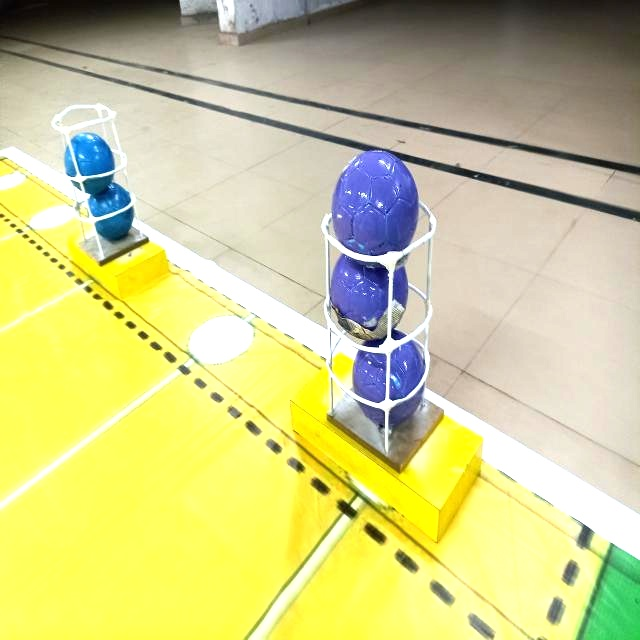blue_ball: (61, 133, 116, 192), (88, 182, 133, 242)
purple_ball: (328, 151, 421, 262), (329, 248, 411, 339), (347, 339, 429, 417)
silo: (318, 192, 451, 474), (42, 92, 164, 281)
